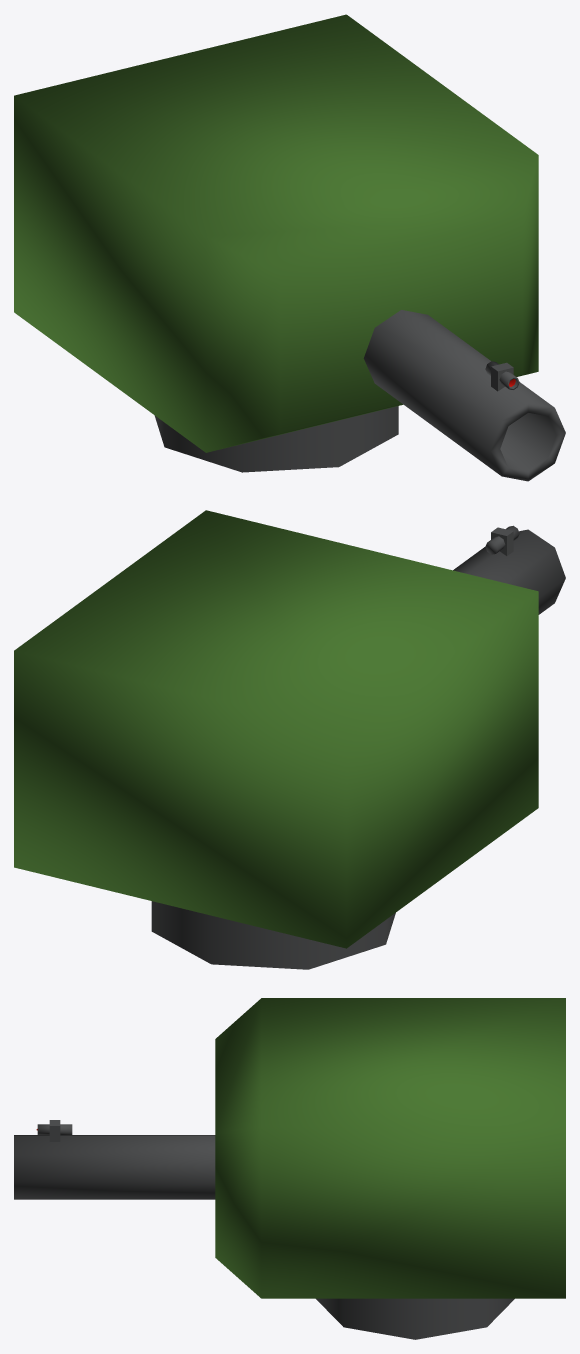
The model's file is Turret.dae.
3 views of the same model, one above another, from view 1: azimuth 30°, elevation 25°; view 2: azimuth 150°, elevation 25°; view 3: azimuth 270°, elevation 25° (orthographic). The views are drawn at different scales.
Visible parts, largest first — view 1: Circle; view 2: Circle; view 3: Circle.
Boxes of the visible parts, box(x1,y1,x2,y2) form: Circle: box(14, 14, 565, 481); Circle: box(14, 510, 565, 969); Circle: box(14, 998, 565, 1339).
Bounding box in the file's own units: 0.2776 × 0.5031 × 0.2359.
